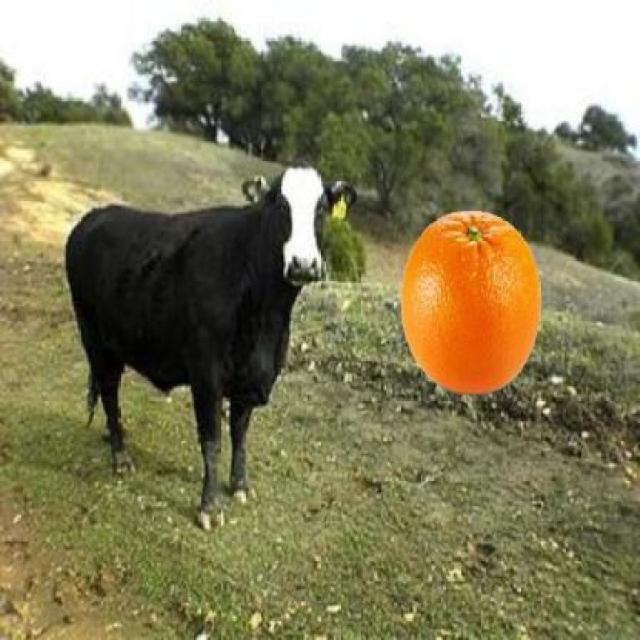Orange: (397, 208, 541, 395)
